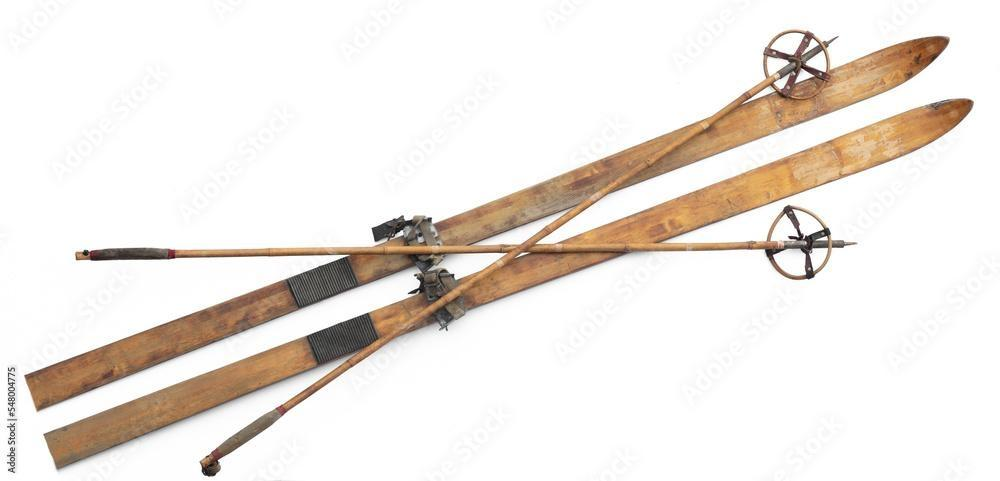Skis: (42, 33, 970, 456)
